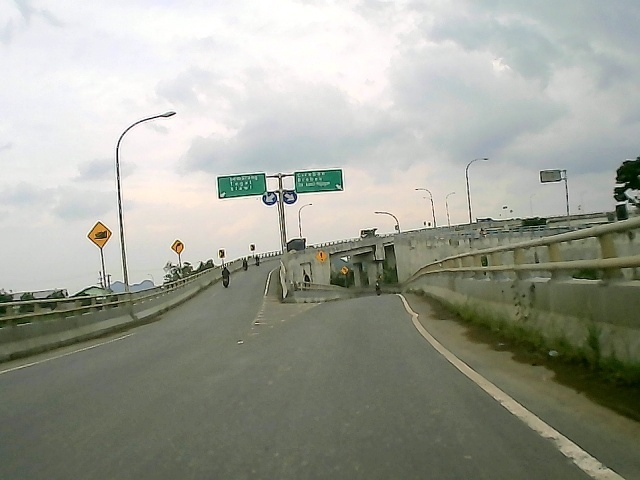Hati-hati: (314, 250, 329, 264)
Jalanan menanjak: (86, 219, 111, 249)
Tikungan ke kanan: (169, 238, 185, 256)
